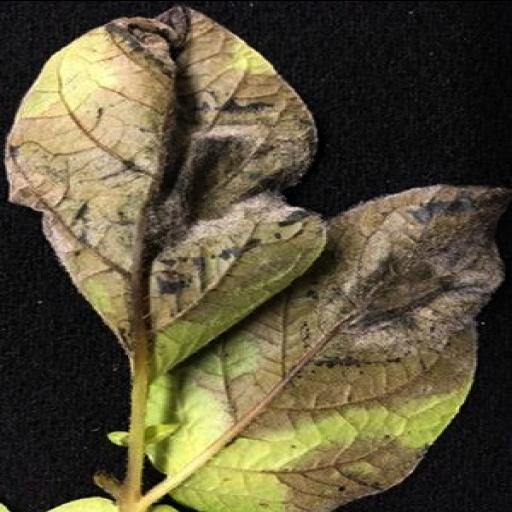disease_tomato: (120, 178, 510, 511), (4, 4, 334, 370)
